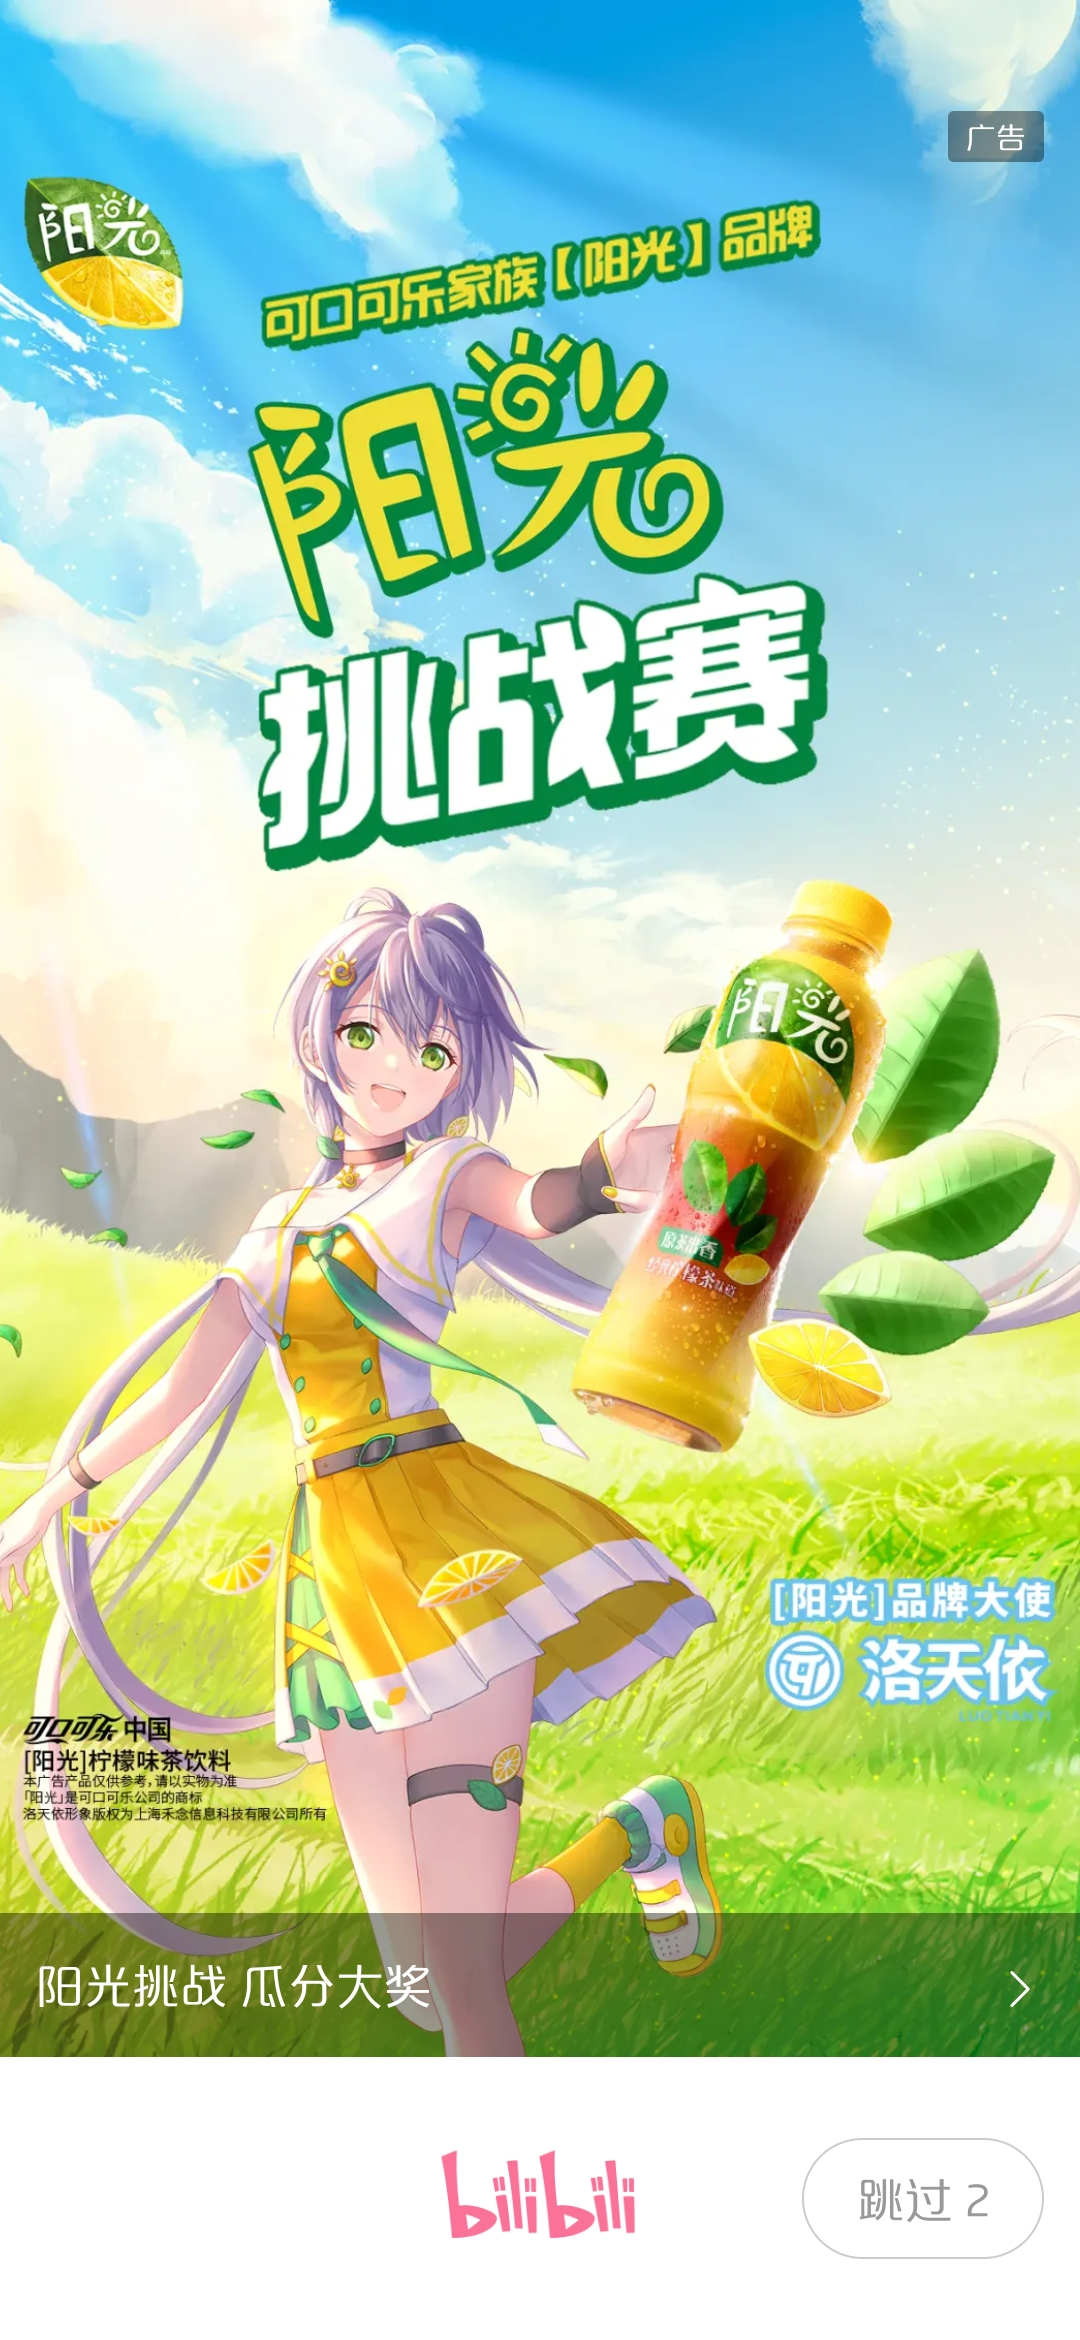skip: (826, 2146, 1023, 2250)
